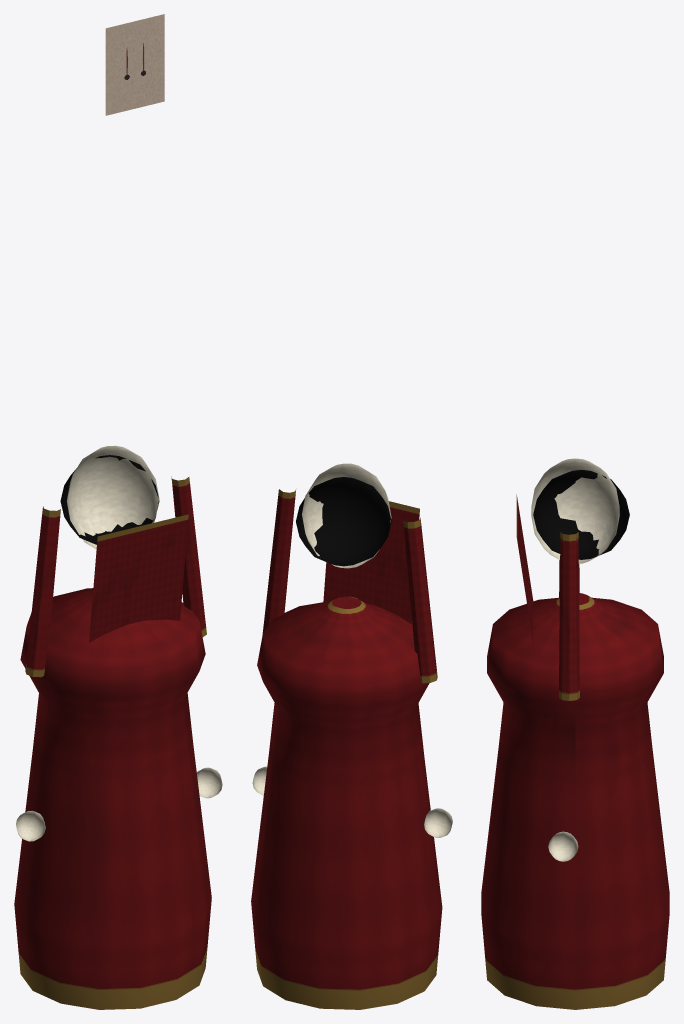
File: bride_ghost.glb
3 views of the same model, side by side, from view 1: azimuth 30°, elevation 25°; view 2: azimuth 150°, elevation 25°; view 3: azimuth 270°, elevation 25° (orthographic). The views are drawn at different scales.
Visible parts, largest first — view 1: Body, Veil, Head, Face, Arm-1, Arm1, Hair, Hand-1, Hand1; view 2: Body, Hair, Veil, Arm-1, Arm1, Head, Hand-1; view 3: Body, Head, Arm1, Hair, Veil, Hand1.
Boxes of the visible parts, x1=… form: Body: x1=14, y1=588, x2=211, y2=1009; Veil: x1=89, y1=514, x2=188, y2=642; Head: x1=66, y1=445, x2=159, y2=549; Face: x1=105, y1=14, x2=164, y2=115; Arm-1: x1=25, y1=506, x2=60, y2=677; Arm1: x1=171, y1=476, x2=206, y2=636; Hair: x1=60, y1=455, x2=159, y2=544; Hand-1: x1=16, y1=811, x2=45, y2=841; Hand1: x1=196, y1=767, x2=222, y2=798; Body: x1=251, y1=596, x2=442, y2=1009; Hair: x1=296, y1=477, x2=391, y2=566; Veil: x1=323, y1=501, x2=419, y2=623; Arm-1: x1=403, y1=517, x2=437, y2=683; Arm1: x1=262, y1=489, x2=295, y2=633; Head: x1=302, y1=463, x2=391, y2=568; Hand-1: x1=424, y1=808, x2=452, y2=837; Body: x1=481, y1=593, x2=669, y2=1009; Head: x1=531, y1=458, x2=619, y2=563; Arm1: x1=559, y1=532, x2=579, y2=700; Hair: x1=533, y1=469, x2=629, y2=559; Veil: x1=516, y1=494, x2=533, y2=644; Hand1: x1=548, y1=831, x2=578, y2=861.
Bounding box in the file's own units: 0.76 × 3.44 × 0.624.
Materials: 5 (5 with a texture image).
